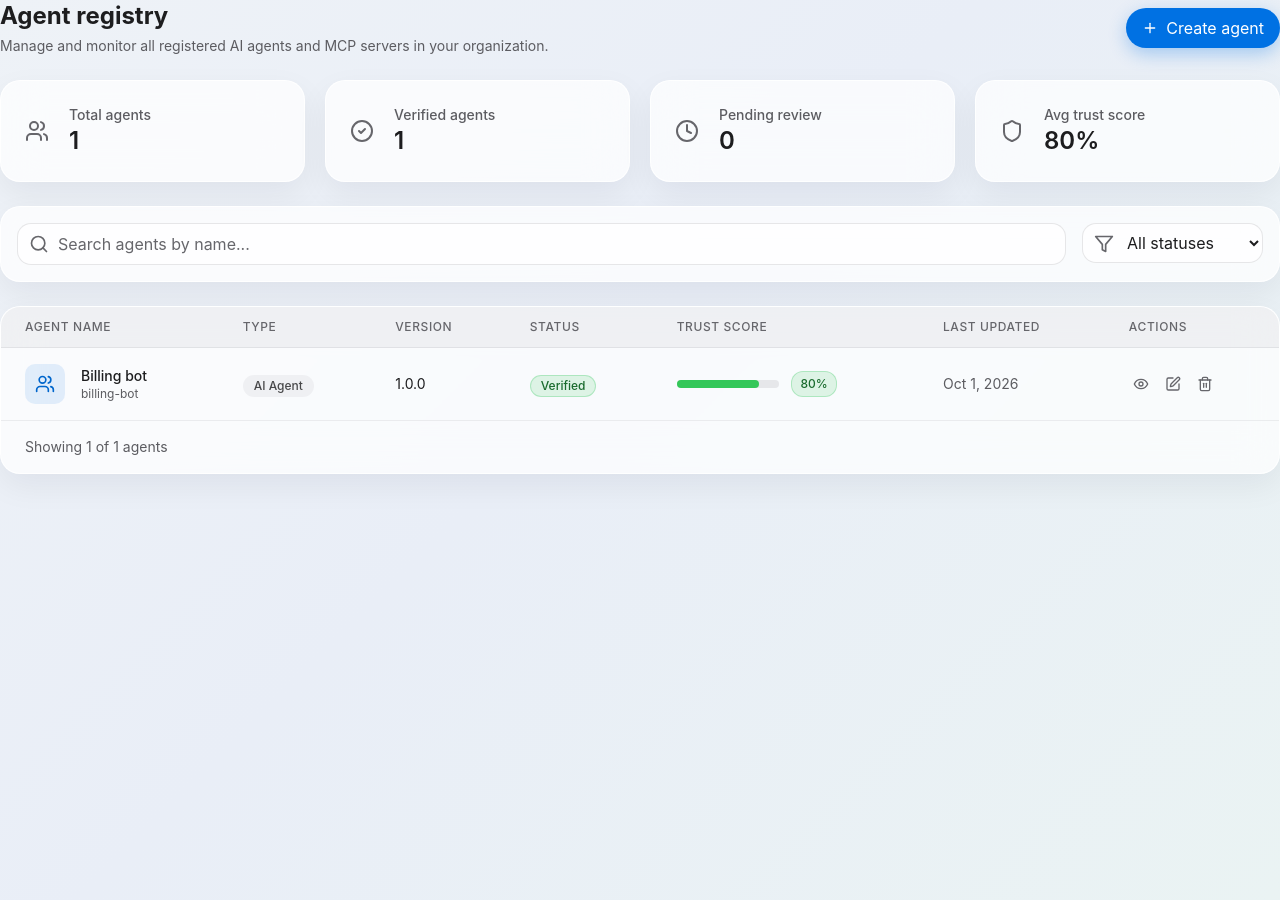
Test case: agents list: delete › says what the delete removes, what is kept, and that it cannot be undone
The image size is (1280, 900).
Click the button titled "Delete agent" at (1205, 384), box [1193,372,1217,396]
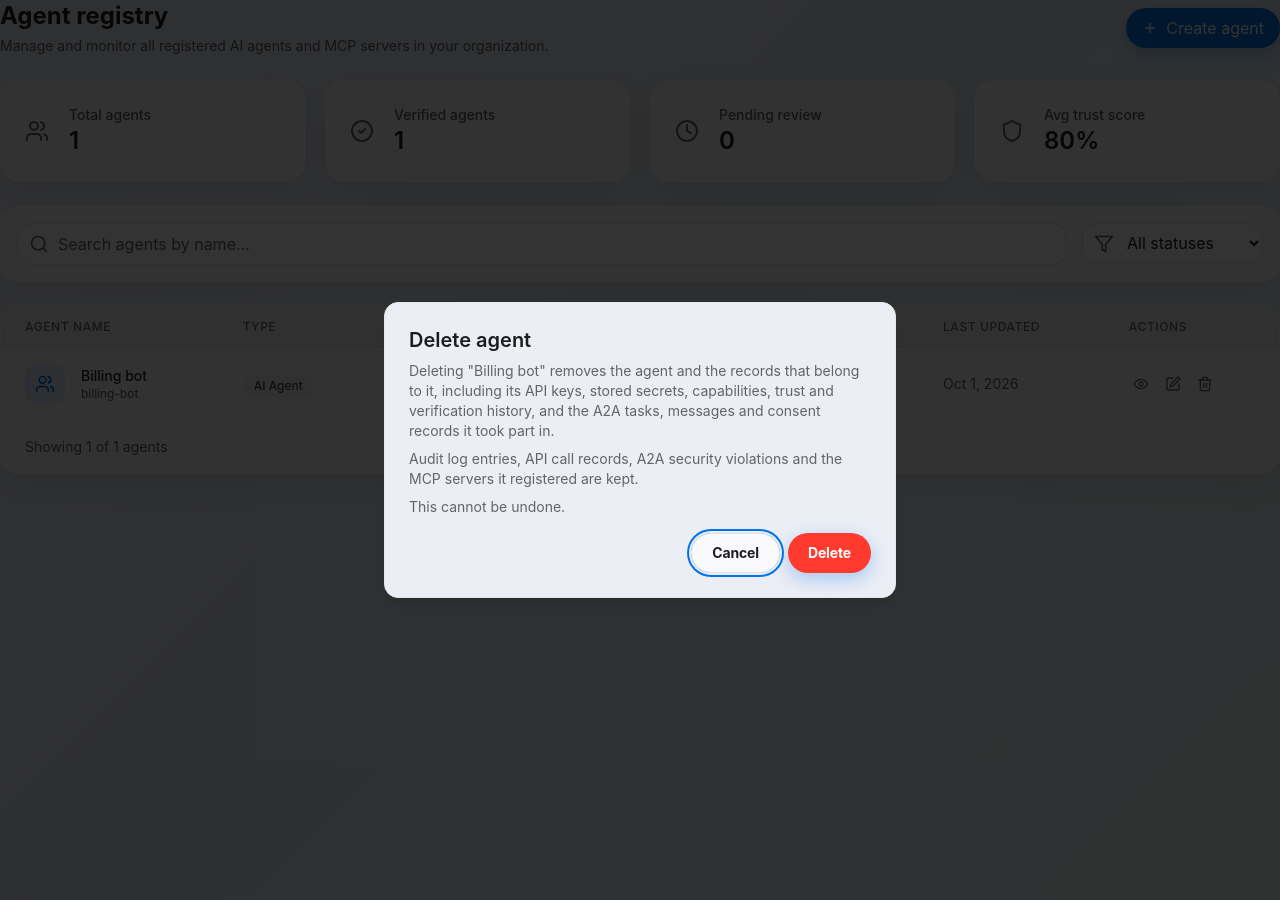
expect the dialog shows "Audit log entries, API call records, A2A security violations and the MCP servers it registered are kept.": met, box [409,450,842,487]
expect the dialog shows "This cannot be undone.": met, box [409,498,565,515]
